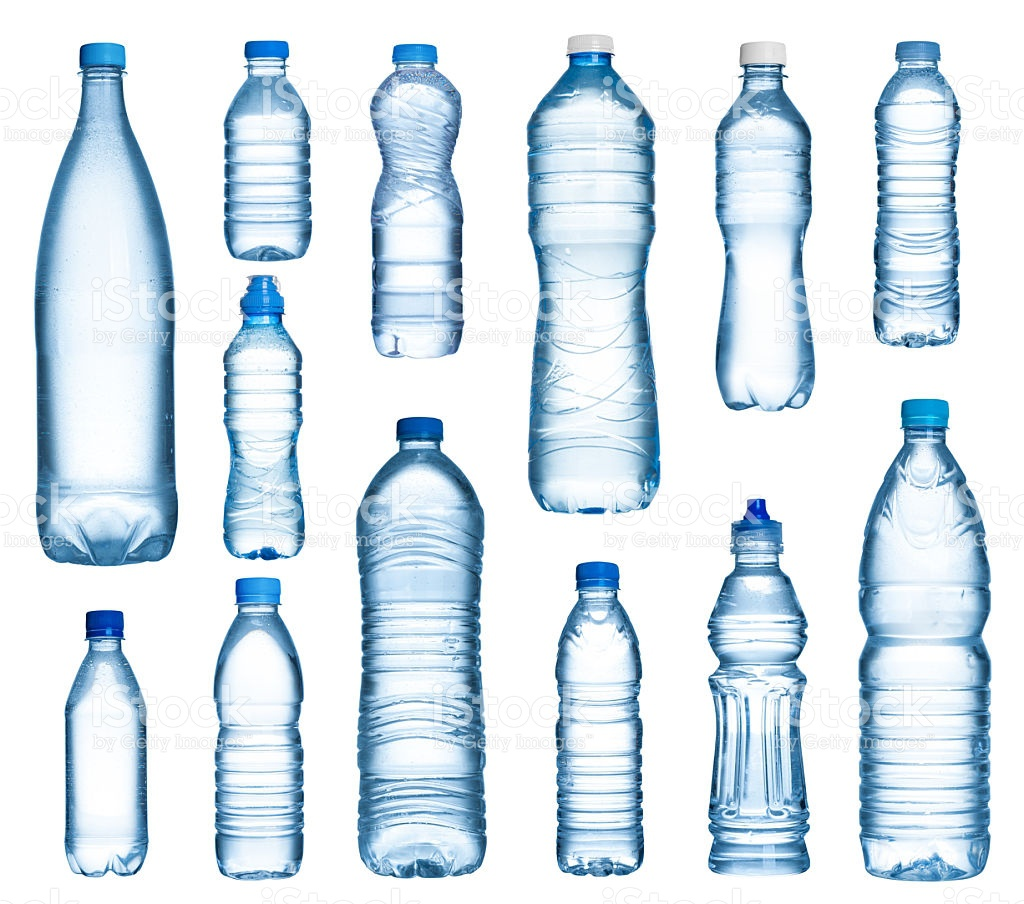emptybottle: (38, 46, 177, 565), (526, 34, 660, 514), (860, 400, 990, 881), (355, 418, 486, 877), (705, 500, 811, 873), (718, 43, 813, 409), (373, 44, 462, 357), (553, 561, 640, 878), (875, 41, 961, 349), (214, 577, 299, 883), (224, 275, 304, 562), (64, 610, 148, 875), (224, 42, 311, 260)
